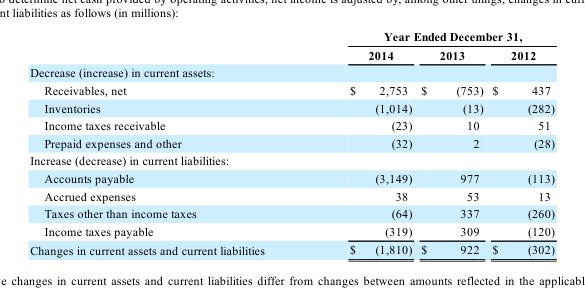table: (29, 29, 554, 256)
table column: (29, 29, 306, 256), (306, 29, 415, 256), (415, 29, 487, 256), (487, 29, 554, 256)
table column header: (29, 29, 554, 63)
table projected row header: (29, 63, 554, 81), (29, 151, 554, 169)
table row: (29, 45, 554, 63), (29, 63, 554, 81), (29, 98, 554, 116), (29, 133, 554, 151), (29, 151, 554, 169), (29, 186, 554, 204), (29, 204, 554, 222), (29, 222, 554, 240), (29, 81, 554, 98), (29, 116, 554, 133), (29, 169, 554, 186), (29, 29, 554, 45), (29, 240, 554, 256)
table spanning cell: (306, 29, 554, 45)
